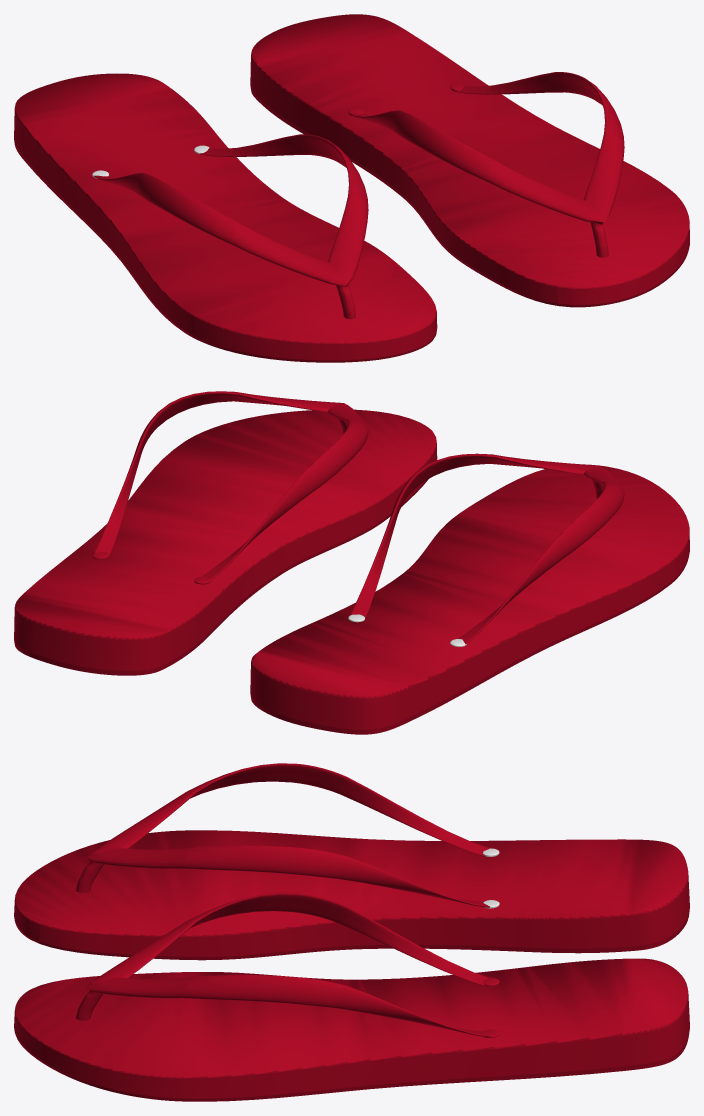
File: red flipflops.fbx
The picture shows the model from 3 angles, top to bottom: view 1: azimuth 30°, elevation 25°; view 2: azimuth 150°, elevation 25°; view 3: azimuth 270°, elevation 25°; orthographic projection. The views are drawn at different scales.
Visible parts, largest first — view 1: Curve003, Curve002, Loft005, Loft004; view 2: Curve002, Curve003, Loft005, Loft004; view 3: Curve003, Curve002, Loft004, Loft005.
Boxes of the visible parts, <box> form: Curve003: <box>250,14,689,307</box>; Curve002: <box>14,73,437,362</box>; Loft005: <box>350,72,624,224</box>; Loft004: <box>94,134,368,286</box>; Curve002: <box>250,464,689,734</box>; Curve003: <box>14,409,437,675</box>; Loft005: <box>94,391,368,581</box>; Loft004: <box>350,453,624,644</box>; Curve003: <box>14,958,689,1101</box>; Curve002: <box>14,830,689,960</box>; Loft004: <box>86,763,490,907</box>; Loft005: <box>85,892,490,1036</box>.
Size of the model in its own units: 19.91 by 4.18 by 23.07.
